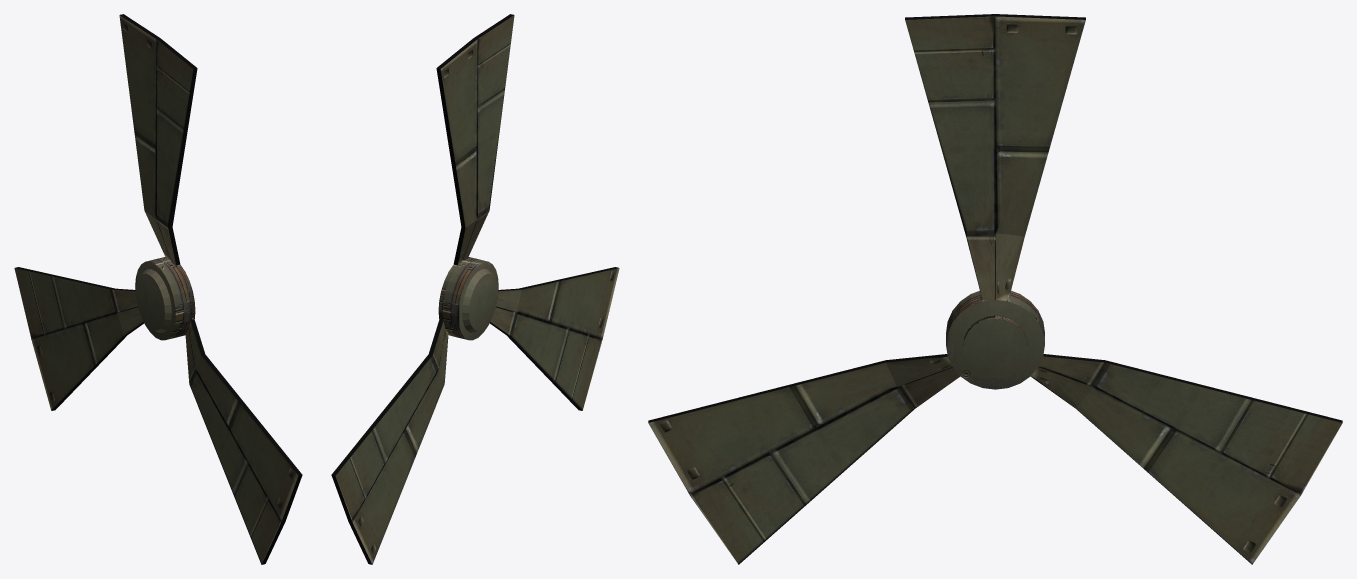
The model's file is Turbine_Factory.glb.
3 renders of one model, left to right at view 1: azimuth 30°, elevation 25°; view 2: azimuth 150°, elevation 25°; view 3: azimuth 270°, elevation 25°, orthographic. The views are drawn at different scales.
Parts seen in each view (by area): view 1: Turbine_Factory; view 2: Turbine_Factory; view 3: Turbine_Factory.
Boxes of the visible parts, box(x1,y1,x2,y2) form: Turbine_Factory: box(14, 14, 302, 564); Turbine_Factory: box(331, 14, 619, 564); Turbine_Factory: box(648, 14, 1342, 564).
Bounding box in the file's own units: 0.2797 × 3.98 × 4.57.
1 material, 1 textured.
